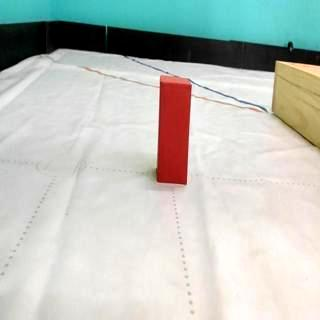redbox: (157, 75, 192, 185)
